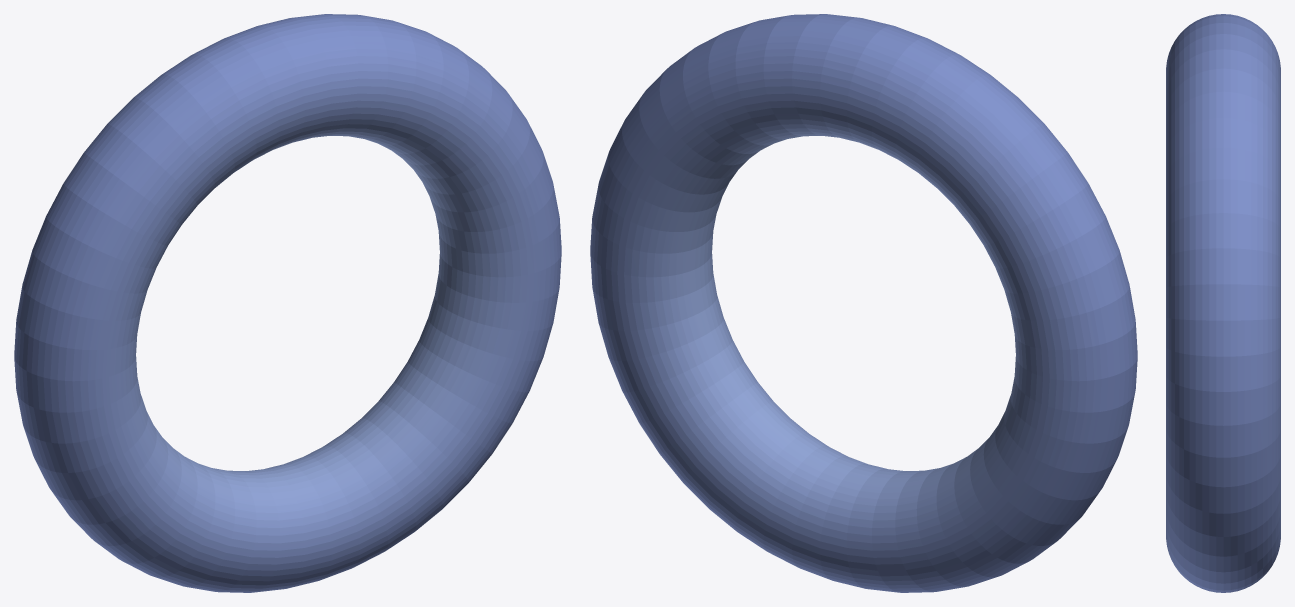
3 views of the same model, side by side, from view 1: azimuth 30°, elevation 25°; view 2: azimuth 150°, elevation 25°; view 3: azimuth 270°, elevation 25° (orthographic). The views are drawn at different scales.
Visible parts, largest first — view 1: world; view 2: world; view 3: world.
Part boxes in pixels (x1,y1,x2,y2): world: [14, 14, 561, 592]; world: [590, 14, 1137, 592]; world: [1166, 14, 1280, 592].
Bounding box in the file's own units: 20.8 × 20.76 × 4.13.
